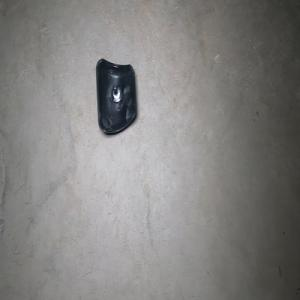LuggagePart: (94, 57, 137, 135)
